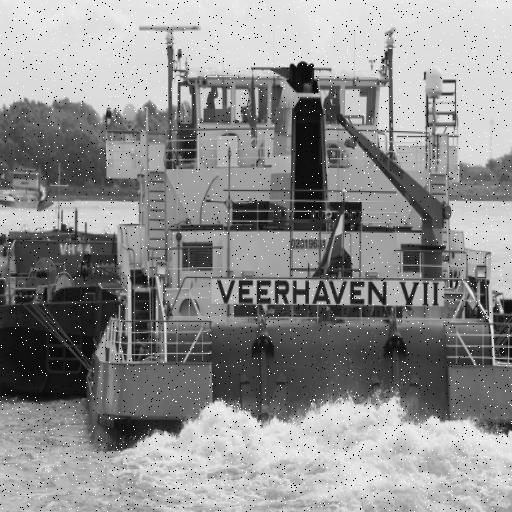tugboat: (89, 21, 512, 459)
